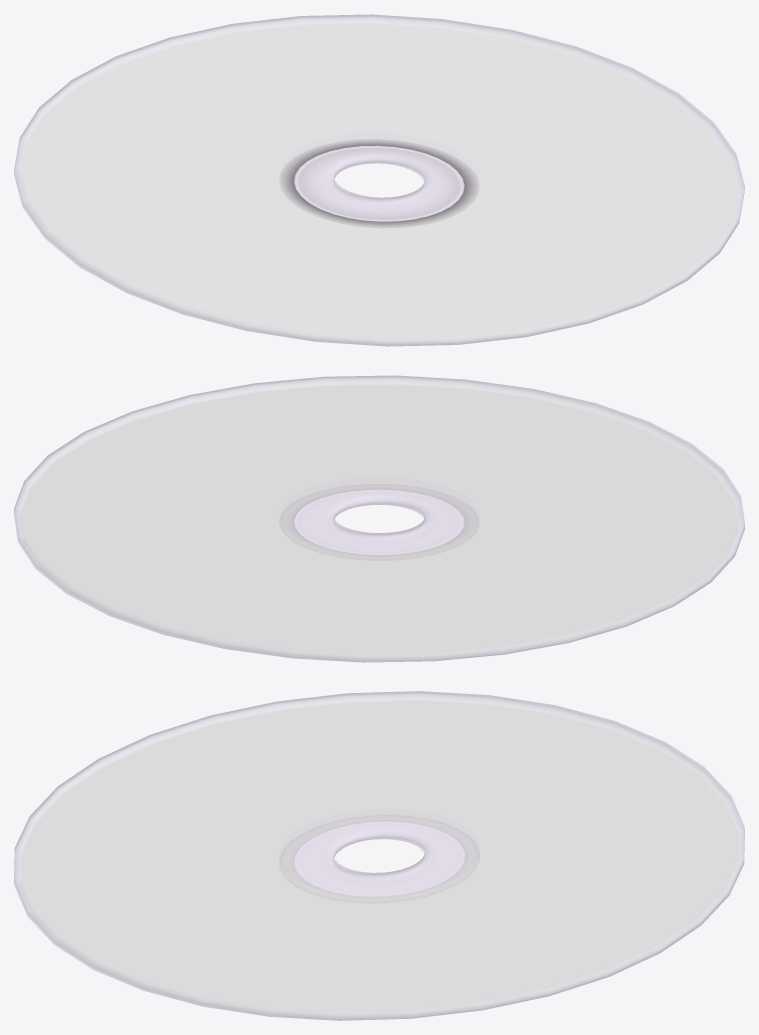
The model's file is CDV1.glb.
3 views of the same model, one above another, from view 1: azimuth 30°, elevation 25°; view 2: azimuth 150°, elevation 25°; view 3: azimuth 270°, elevation 25° (orthographic).
Parts seen in each view (by area): view 1: CD; view 2: CD; view 3: CD.
Boxes of the visible parts, bbox=[...] form: CD: bbox=[14, 14, 744, 346]; CD: bbox=[14, 375, 744, 662]; CD: bbox=[14, 691, 744, 1020].
Size of the model in its own units: 3.48 by 0.1839 by 3.47.
